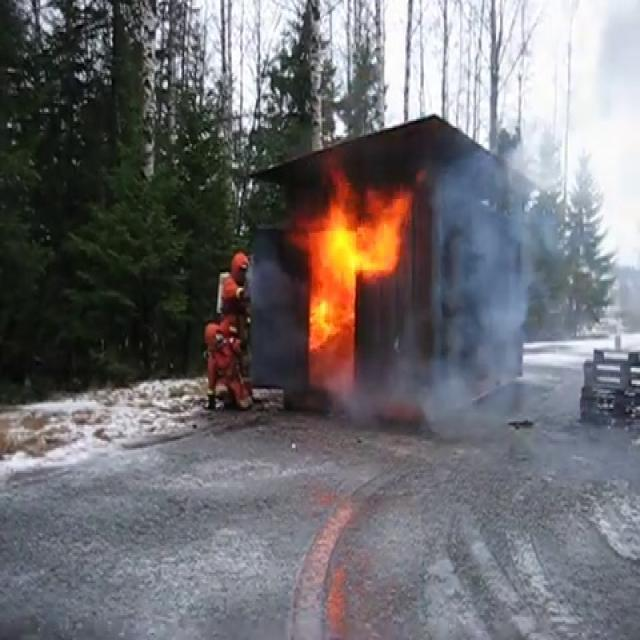Fire: (294, 168, 416, 362)
Smoke: (404, 0, 640, 428)
